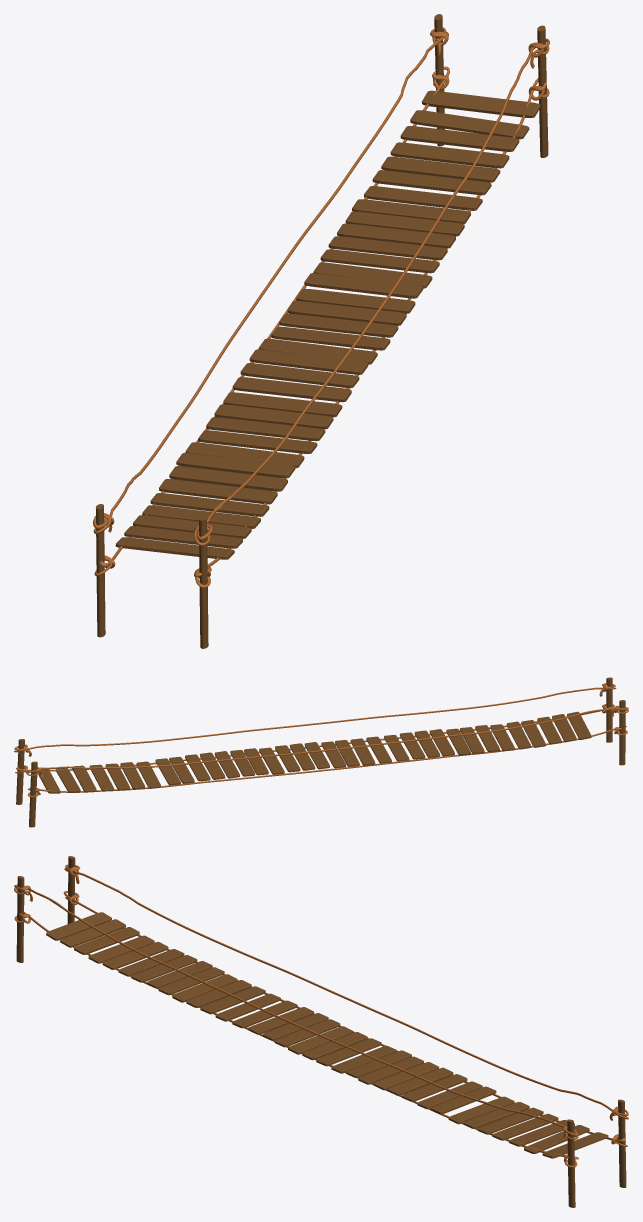
The model's file is Jembatan.fbx.
3 views of the same model, one above another, from view 1: azimuth 30°, elevation 25°; view 2: azimuth 150°, elevation 25°; view 3: azimuth 270°, elevation 25° (orthographic). The views are drawn at different scales.
Visible parts, largest first — view 1: Cube.034, BézierCurve.001, Cylinder.001, Cylinder.002; view 2: Cube.034, BézierCurve.001, Cylinder.002, Cylinder.001; view 3: Cube.034, BézierCurve.001, Cylinder.002, Cylinder.001.
Part boxes in pixels (x1,y1,x2,y2): Cube.034: (115, 90, 540, 559); BézierCurve.001: (93, 27, 549, 587); Cylinder.001: (95, 504, 208, 648); Cylinder.002: (434, 14, 548, 157); Cube.034: (38, 711, 591, 793); BézierCurve.001: (14, 683, 628, 797); Cylinder.002: (16, 739, 37, 827); Cylinder.001: (606, 677, 625, 765); Cube.034: (46, 912, 608, 1158); BézierCurve.001: (14, 864, 628, 1167); Cylinder.002: (567, 1099, 626, 1207); Cylinder.001: (16, 856, 75, 962).
Bounding box in the file's own units: 973 × 145 × 938.
